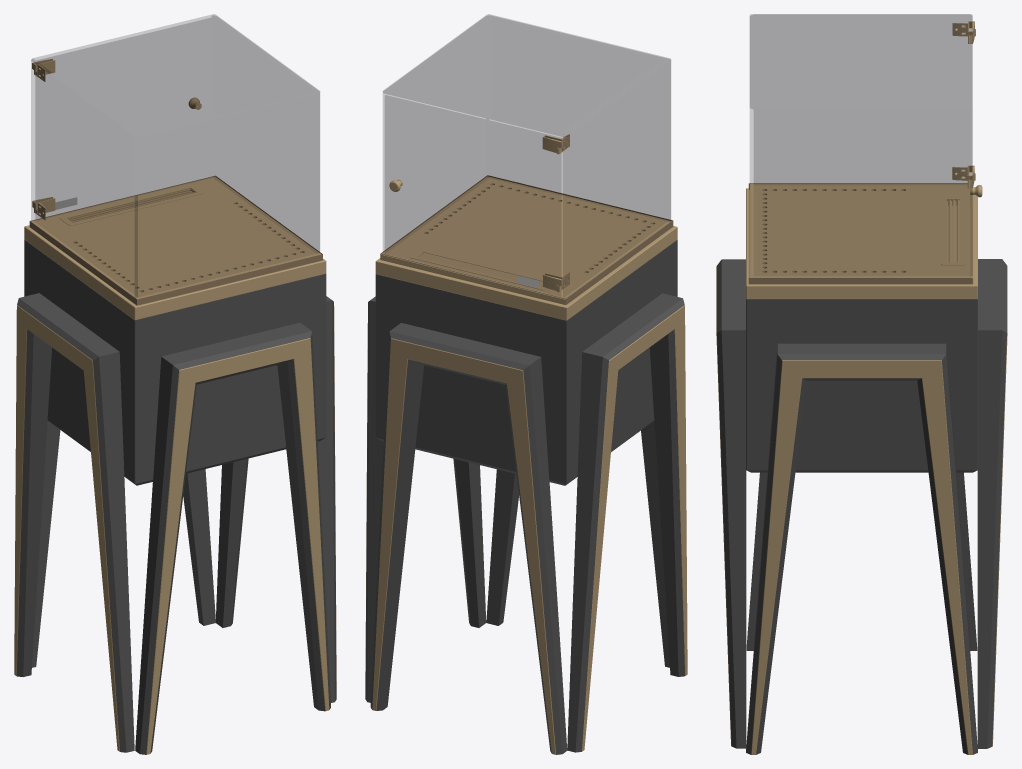
File: Carlo.glb
The picture shows the model from 3 angles, left to right: view 1: azimuth 30°, elevation 25°; view 2: azimuth 150°, elevation 25°; view 3: azimuth 270°, elevation 25°; orthographic projection. The views are drawn at different scales.
Visible parts, largest first — view 1: Ôàñêà063, Ôàñêà058, Âûðåç-Âûòÿíóòü059, Ôàñêà059, Ñêðóãëåíèå119, Ôàñêà060, Ôàñêà056, Ôàñêà057, Ôàñêà066, Ôàñêà068, Ôàñêà061, Ôàñêà064 (+4 smaller); view 2: Ôàñêà063, Ôàñêà058, Âûðåç-Âûòÿíóòü059, Ôàñêà059, Ñêðóãëåíèå119, Ôàñêà060, Ôàñêà056, Ôàñêà057, Ôàñêà067, Ôàñêà069, Ôàñêà061, Ôàñêà064 (+4 smaller); view 3: Ôàñêà057, Ôàñêà056, Ôàñêà063, Ôàñêà059, Ñêðóãëåíèå119, Ôàñêà065, Ôàñêà061, Ôàñêà067, Ôàñêà066, Ôàñêà062, Ôàñêà060, Line287 (+4 smaller).
Boxes of the visible parts, x1=… form: Ôàñêà063: x1=24, y1=239, x2=326, y2=485; Ôàñêà058: x1=135, y1=92, x2=319, y2=297; Âûðåç-Âûòÿíóòü059: x1=36, y1=18, x2=211, y2=218; Ôàñêà059: x1=31, y1=14, x2=319, y2=136; Ñêðóãëåíèå119: x1=31, y1=176, x2=320, y2=299; Ôàñêà060: x1=16, y1=293, x2=134, y2=752; Ôàñêà056: x1=31, y1=59, x2=137, y2=296; Ôàñêà057: x1=212, y1=16, x2=319, y2=252; Ôàñêà066: x1=135, y1=322, x2=330, y2=754; Ôàñêà068: x1=146, y1=338, x2=329, y2=754; Ôàñêà061: x1=216, y1=296, x2=336, y2=702; Ôàñêà064: x1=14, y1=305, x2=119, y2=751; Ôàñêà063: x1=375, y1=240, x2=677, y2=485; Ôàñêà058: x1=488, y1=16, x2=670, y2=220; Âûðåç-Âûòÿíóòü059: x1=385, y1=95, x2=560, y2=296; Ôàñêà059: x1=383, y1=14, x2=670, y2=136; Ñêðóãëåíèå119: x1=380, y1=176, x2=671, y2=304; Ôàñêà060: x1=567, y1=293, x2=684, y2=752; Ôàñêà056: x1=563, y1=60, x2=670, y2=297; Ôàñêà057: x1=383, y1=17, x2=488, y2=252; Ôàñêà067: x1=370, y1=323, x2=567, y2=754; Ôàñêà069: x1=372, y1=338, x2=555, y2=754; Ôàñêà061: x1=365, y1=296, x2=486, y2=702; Ôàñêà064: x1=582, y1=305, x2=687, y2=751; Ôàñêà057: x1=754, y1=108, x2=971, y2=275; Ôàñêà056: x1=754, y1=15, x2=971, y2=182; Ôàñêà063: x1=746, y1=299, x2=977, y2=472; Ôàñêà059: x1=750, y1=14, x2=971, y2=108; Ñêðóãëåíèå119: x1=749, y1=184, x2=973, y2=283; Ôàñêà065: x1=751, y1=360, x2=972, y2=754; Ôàñêà061: x1=746, y1=343, x2=977, y2=754; Ôàñêà067: x1=977, y1=259, x2=1006, y2=748; Ôàñêà066: x1=717, y1=259, x2=746, y2=748; Ôàñêà062: x1=746, y1=188, x2=977, y2=299; Ôàñêà060: x1=746, y1=472, x2=977, y2=650; Line287: x1=748, y1=183, x2=972, y2=284.
Bounding box in the file's own units: 0.5872 × 1.43 × 0.5872.
